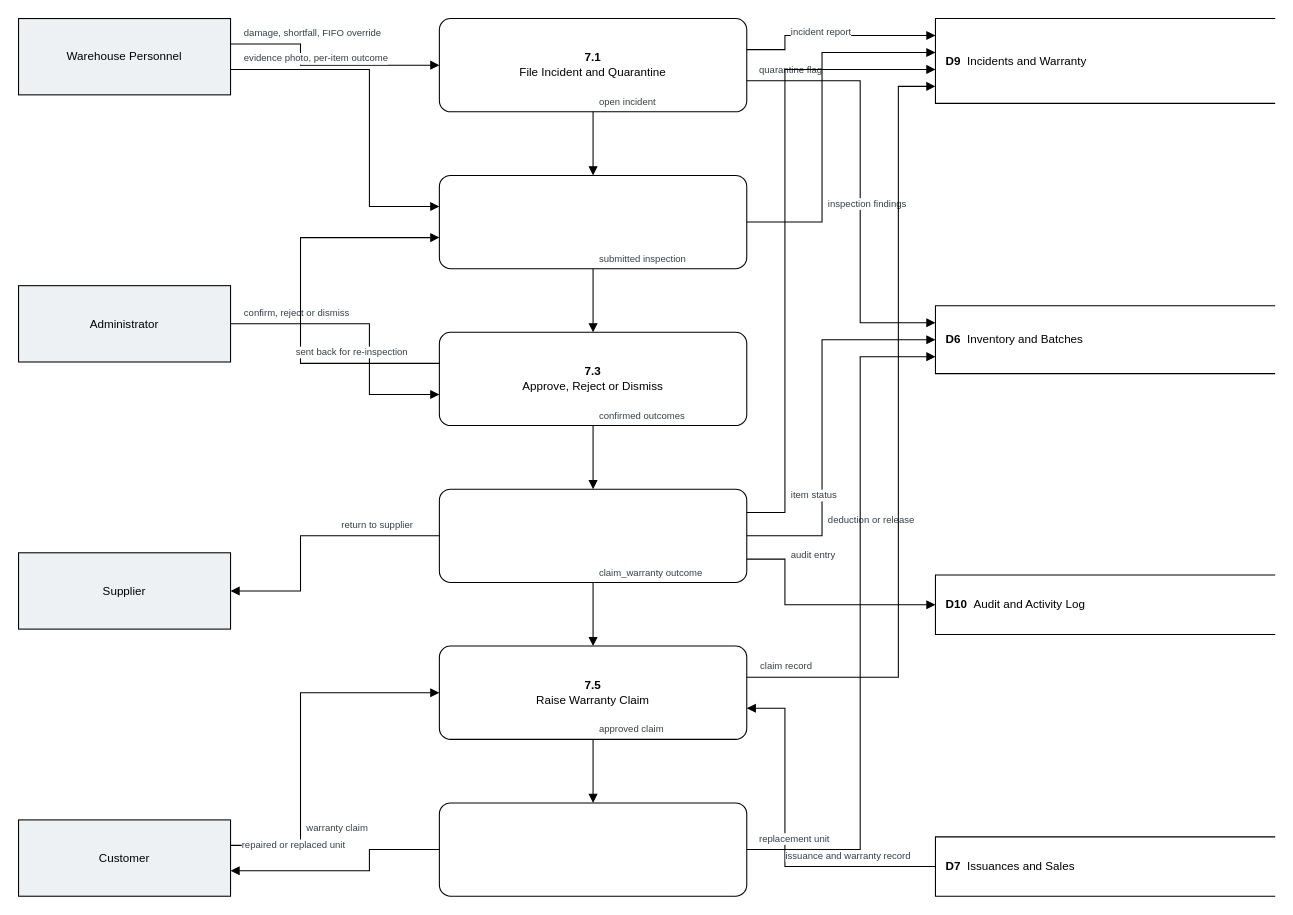
Image size: 1293x915. Some labels were removed from this diagram. The shapes that lost their labels are listed below. From the top down, each one's centre as x and y in pixels, then its label:
point (592, 221): 7.2 Inspect and Record Outcome
point (592, 535): 7.4 Apply Outcome to Stock
point (592, 849): 7.6 Complete Claim and Return Unit
